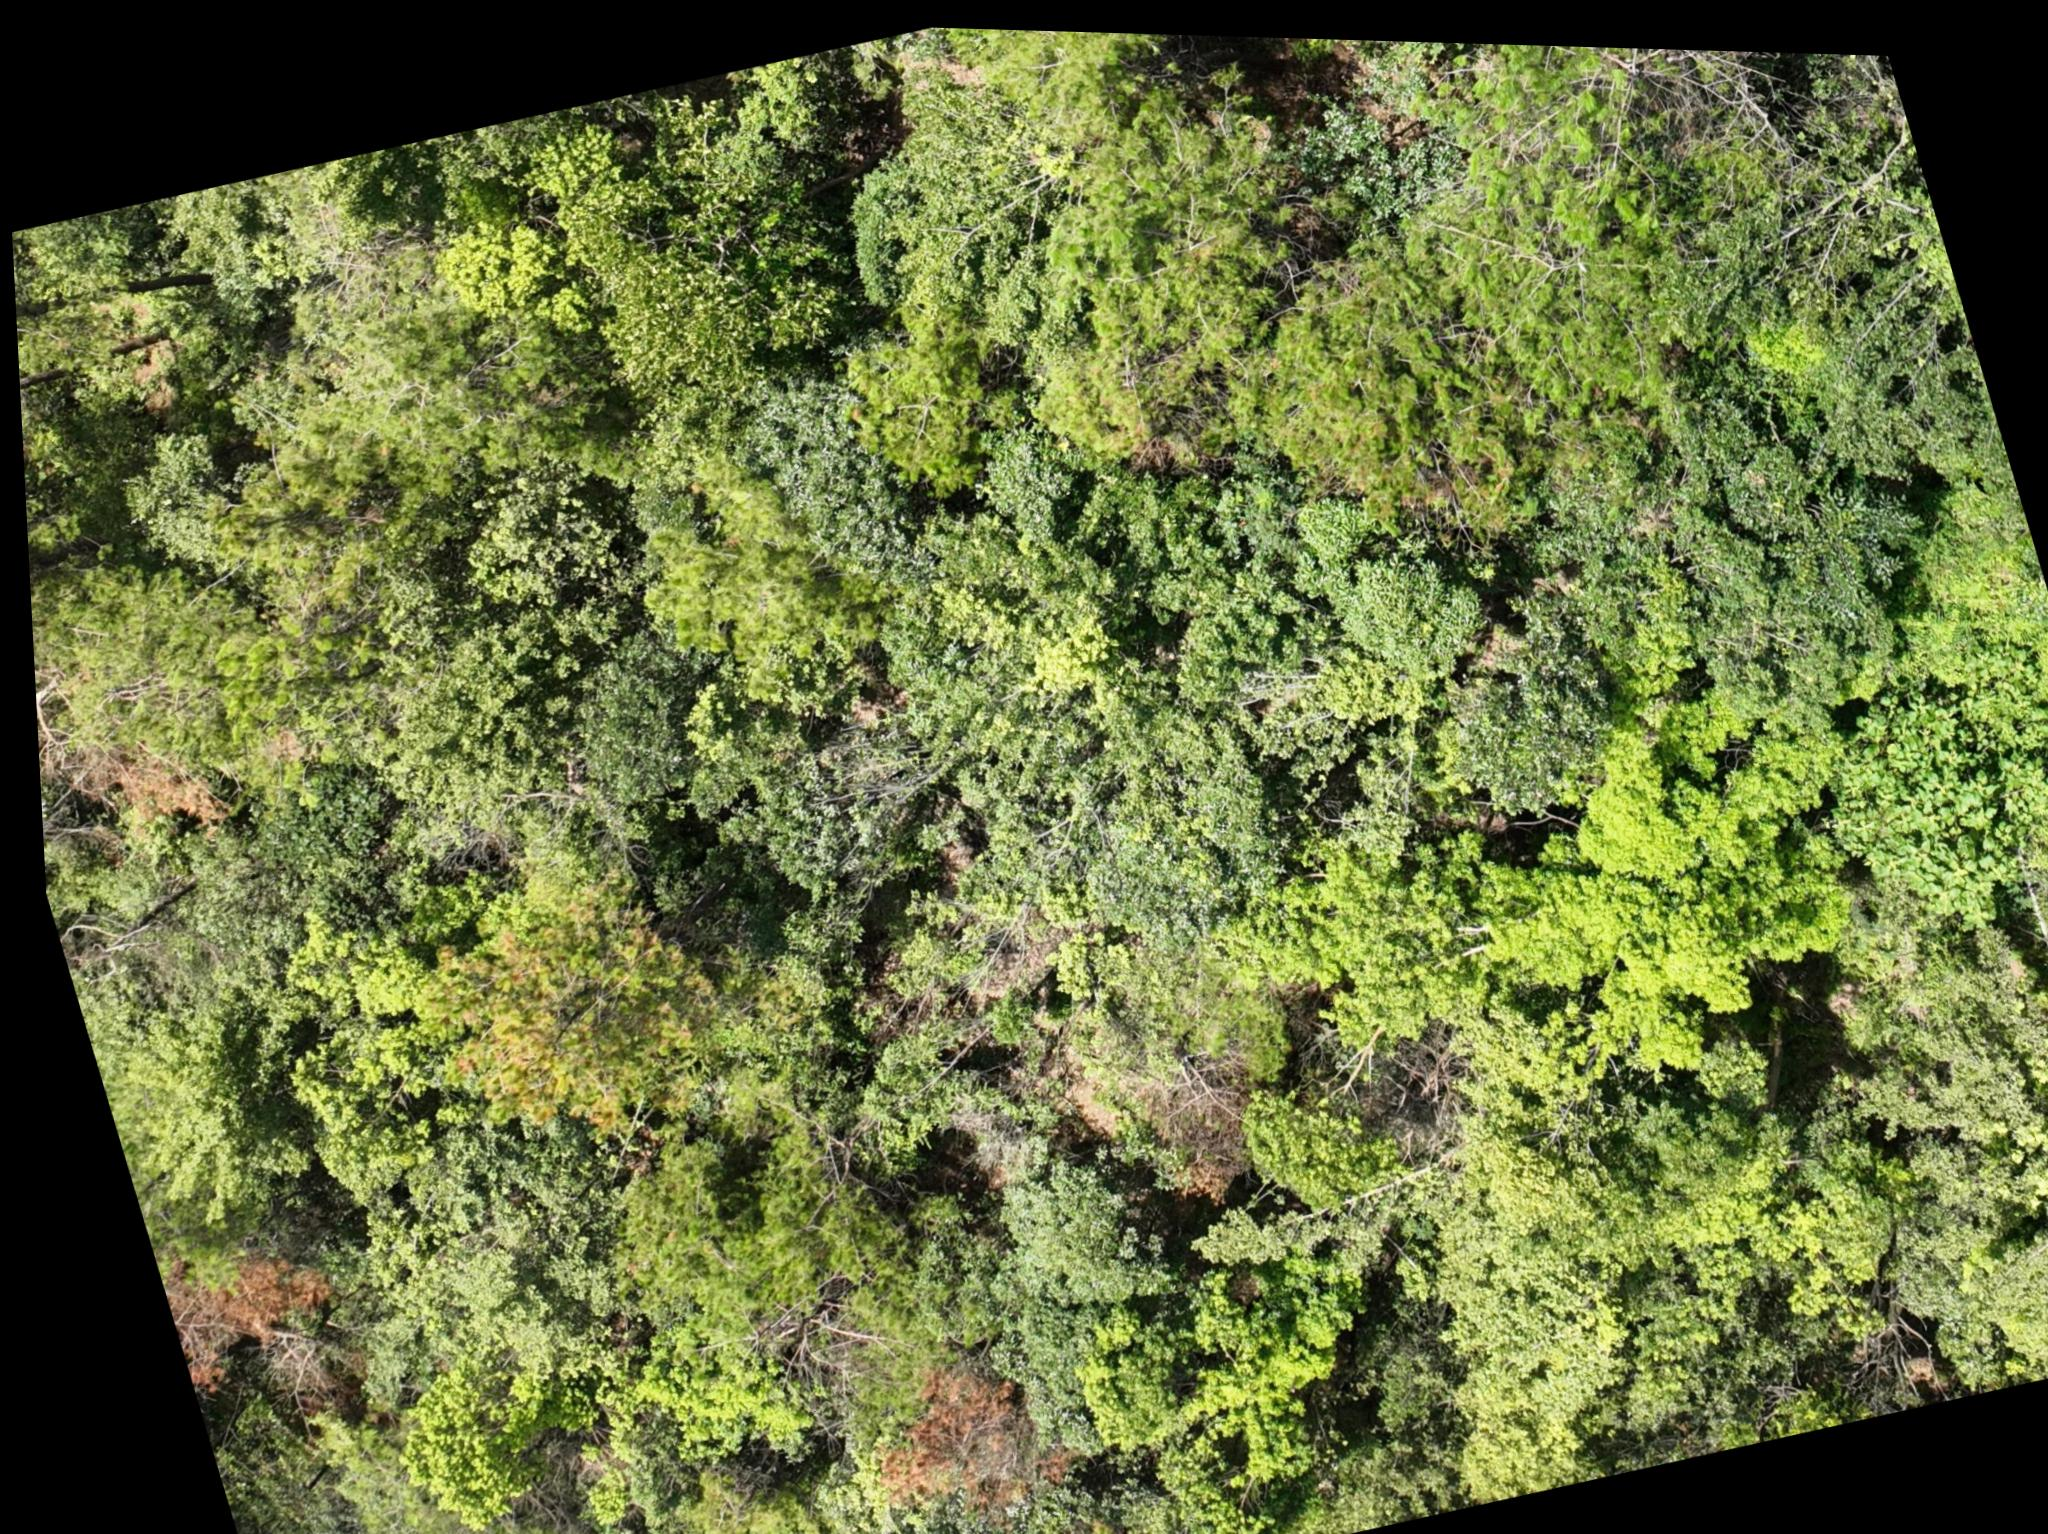heavy: (836, 1328, 1073, 1534), (145, 1220, 337, 1400), (1112, 1044, 1267, 1212)
light: (430, 893, 715, 1141)
